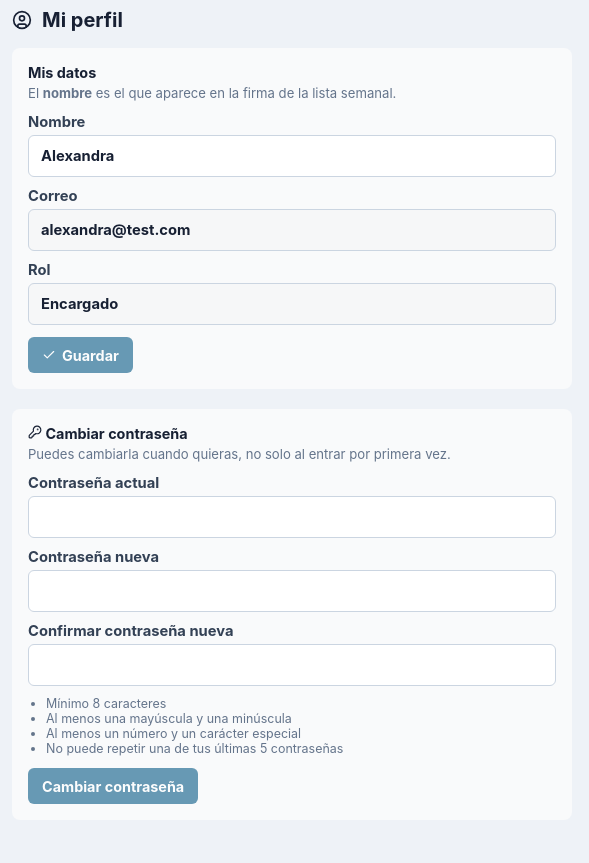
Scenario: ProfilePage › muestra el mensaje exacto que devuelve el backend al rechazar la contraseña
The image size is (589, 863).
Type "Vieja1!" into the password field labelled "Contraseña actual" at (292, 517), box [28,496,556,538]
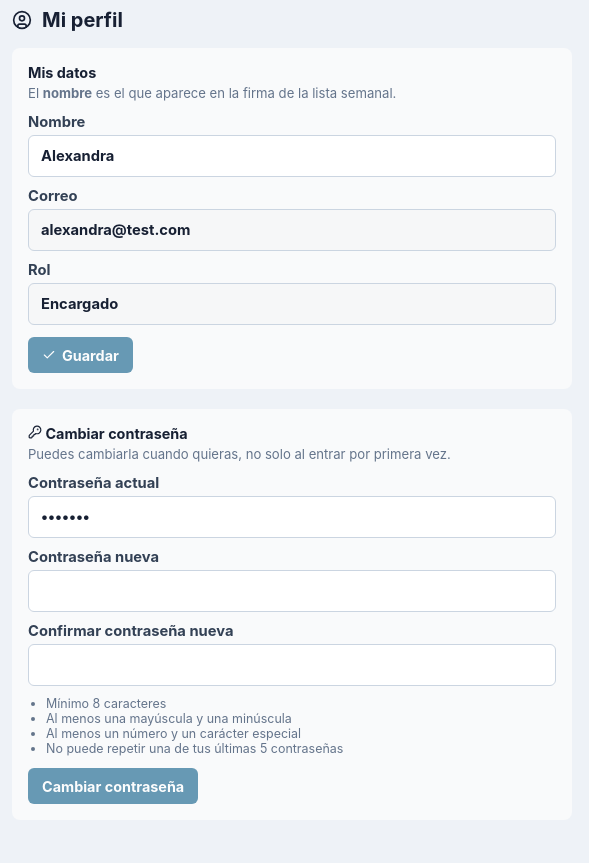
Type "sinmayus1!" into the password field labelled "Contraseña nueva" at (292, 591), box [28,570,556,612]
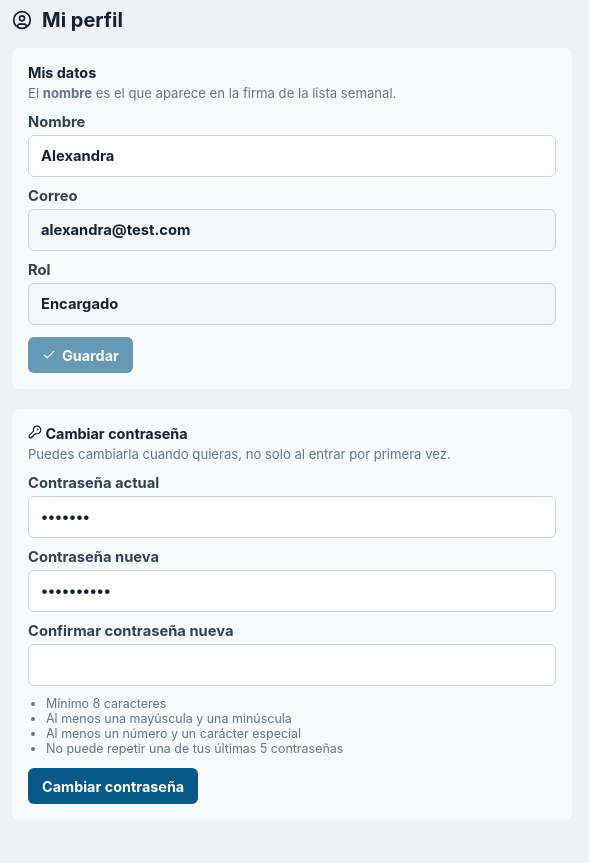
Type "sinmayus1!" into the password field labelled "Confirmar contraseña nueva" at (292, 665), box [28,644,556,686]
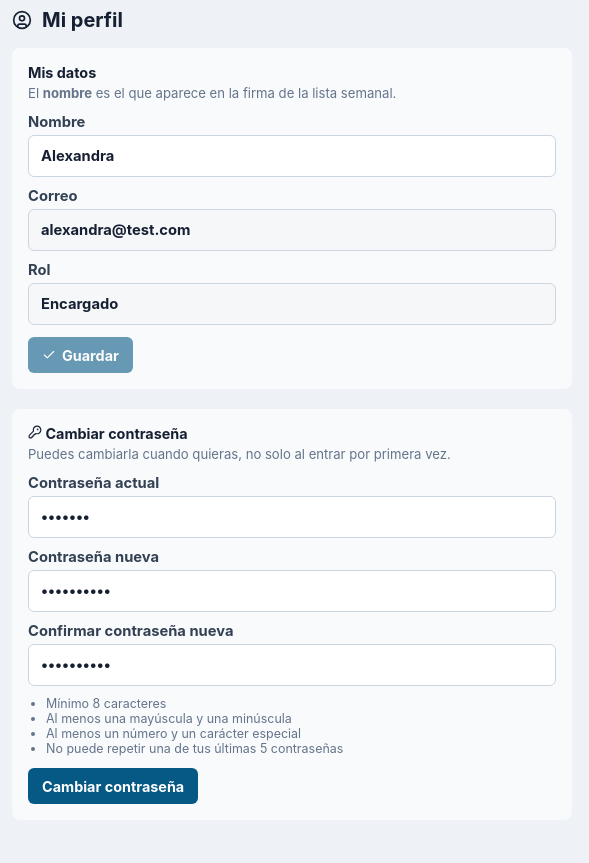
Click the button "Cambiar contraseña" at (113, 786), box [28,768,198,804]
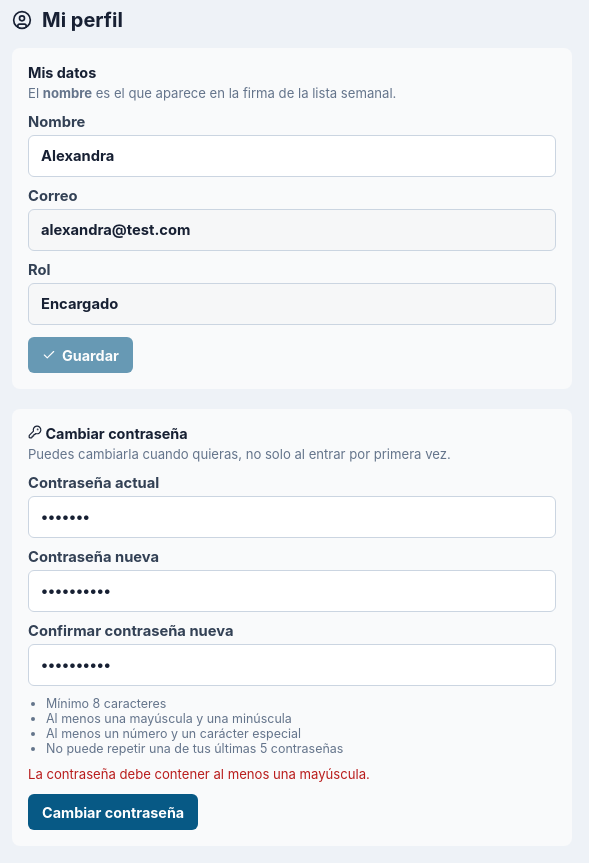
Result: the message reads "La contraseña debe contener al menos una mayúscula." at [28,766,370,782]
